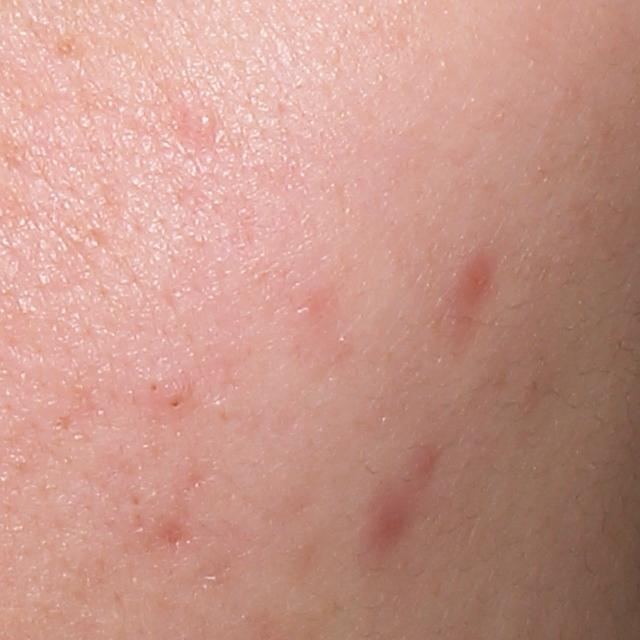comedo: (166, 393, 187, 413), (146, 379, 162, 396)
papule: (450, 249, 490, 299)
